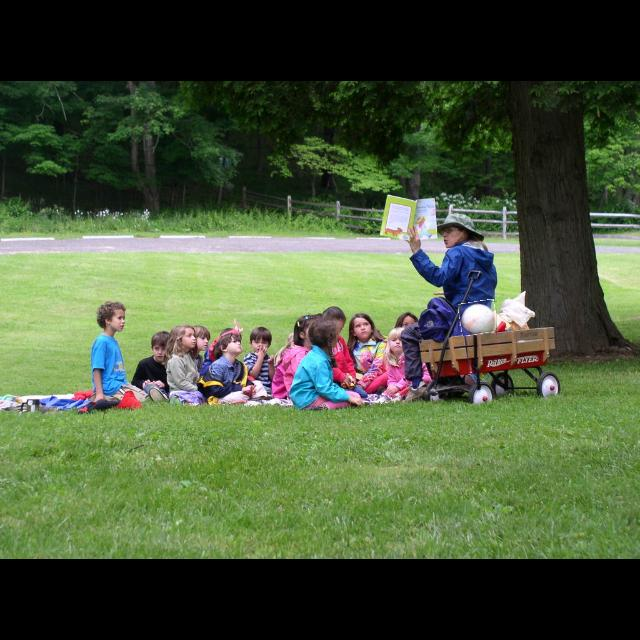Football: (459, 301, 497, 335)
